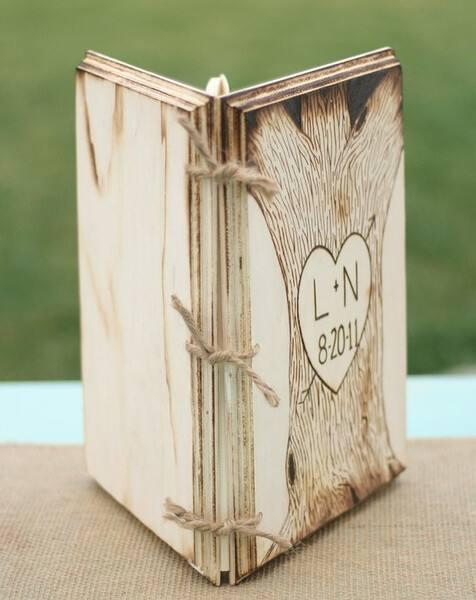book: (46, 35, 444, 590)
